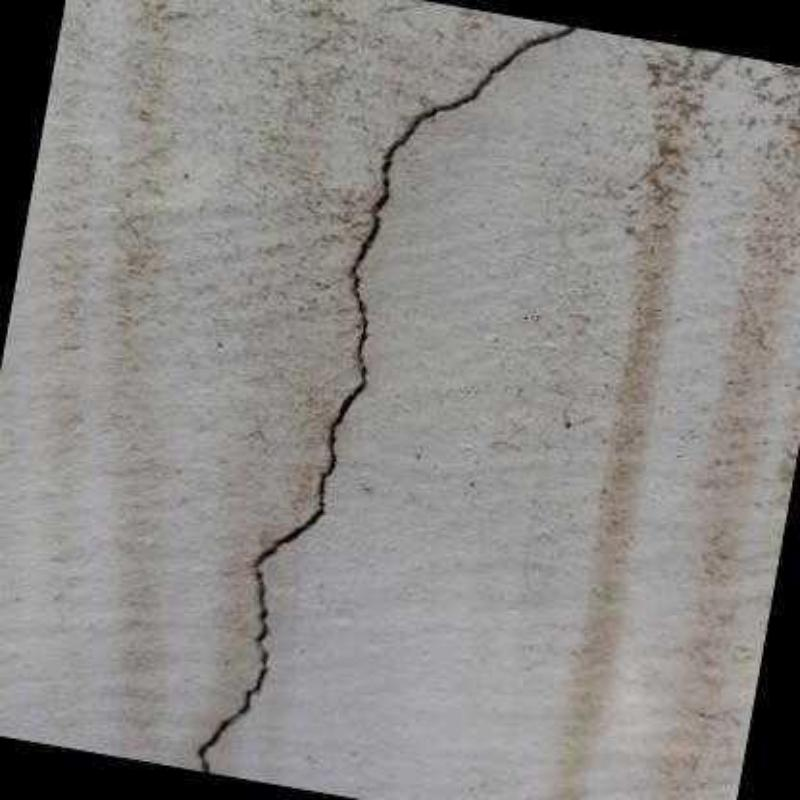crack: (189, 22, 586, 773)
